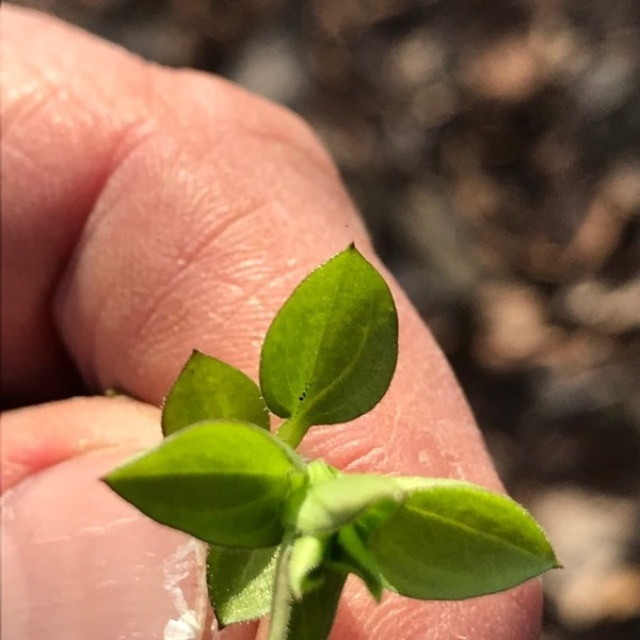obstacle: (113, 237, 532, 625)
